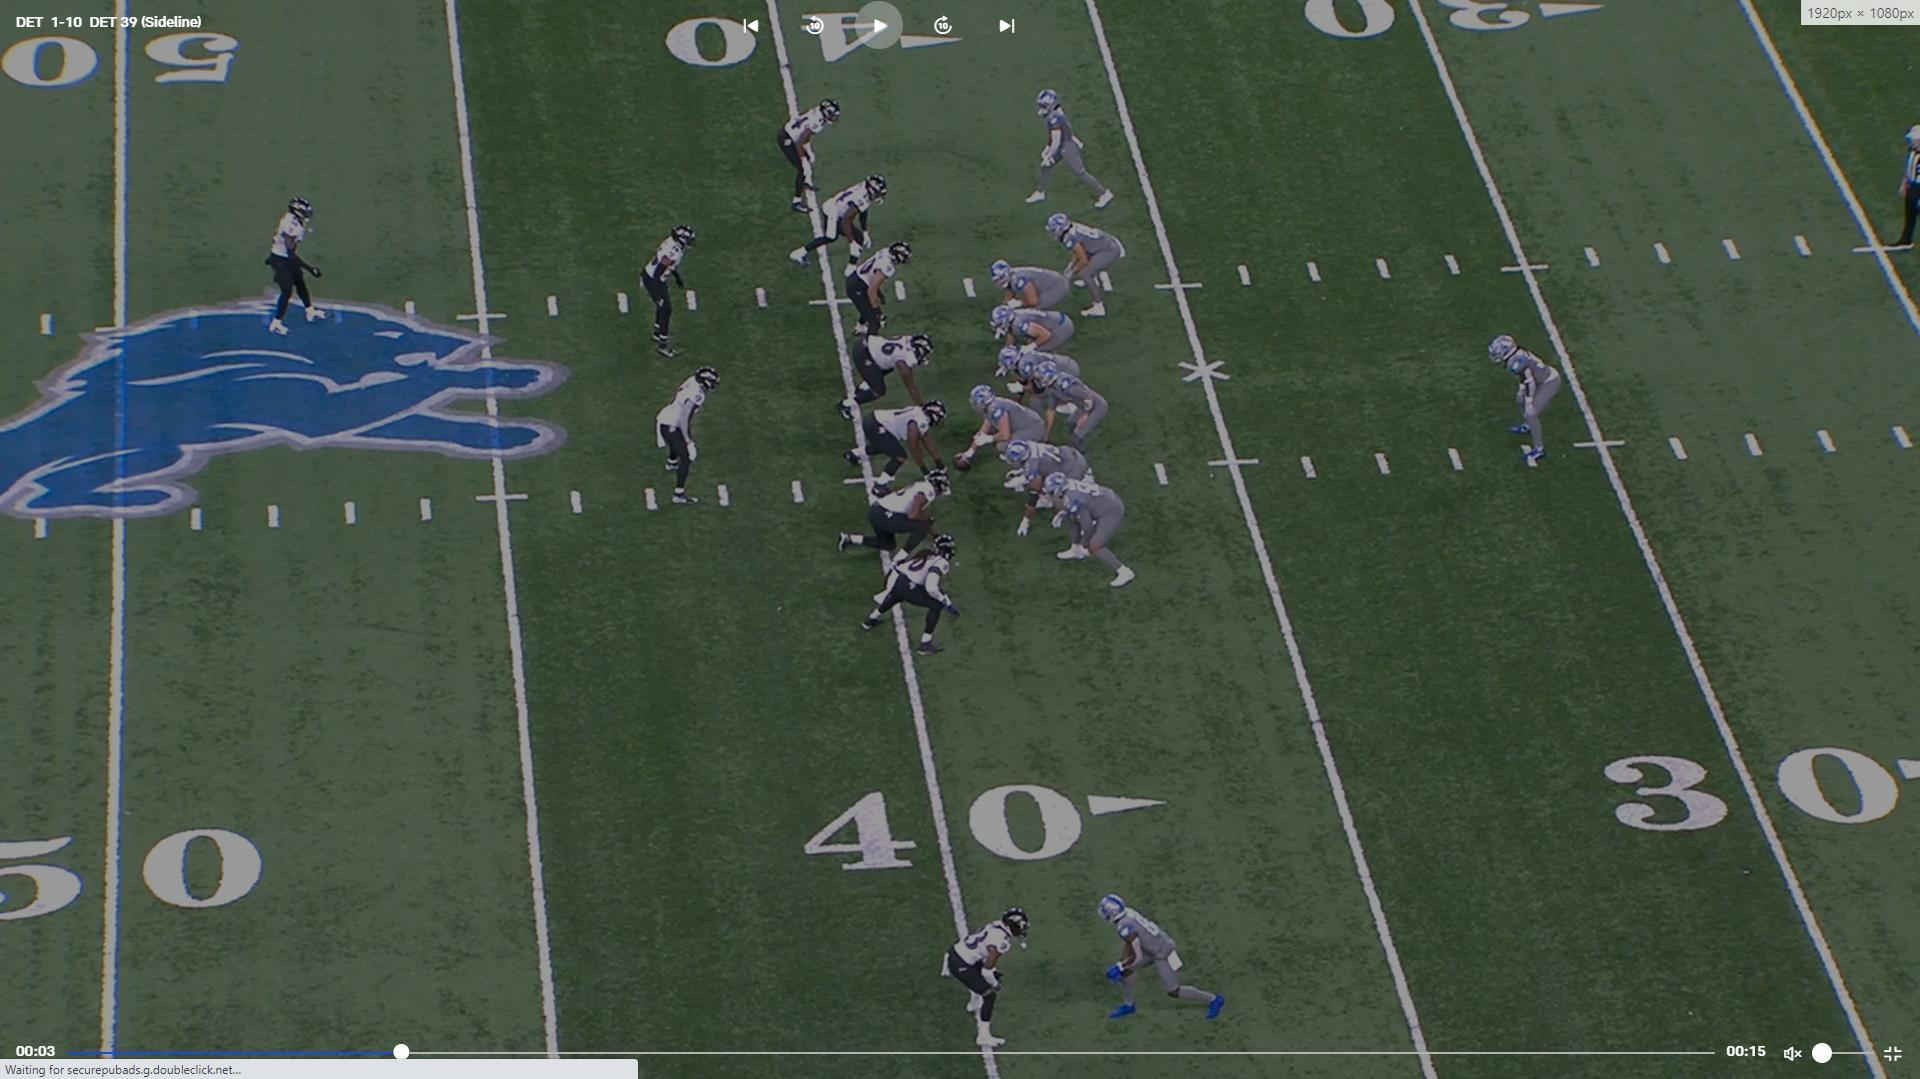defense: (949, 906, 1039, 1055), (855, 534, 961, 658), (836, 470, 951, 562), (790, 174, 895, 274), (654, 365, 719, 510), (844, 404, 947, 492), (835, 331, 936, 419), (268, 193, 327, 336), (642, 220, 700, 365), (786, 96, 845, 220), (843, 236, 914, 335)
oline: (1036, 471, 1135, 595), (1007, 435, 1093, 541), (956, 384, 1050, 476), (996, 343, 1076, 409), (986, 303, 1077, 361)
qb: (1039, 360, 1110, 451)
ref: (1891, 111, 1920, 249)
skill: (1087, 888, 1228, 1030), (1025, 84, 1117, 212), (1484, 330, 1567, 471), (1046, 210, 1129, 318), (992, 259, 1077, 315)
